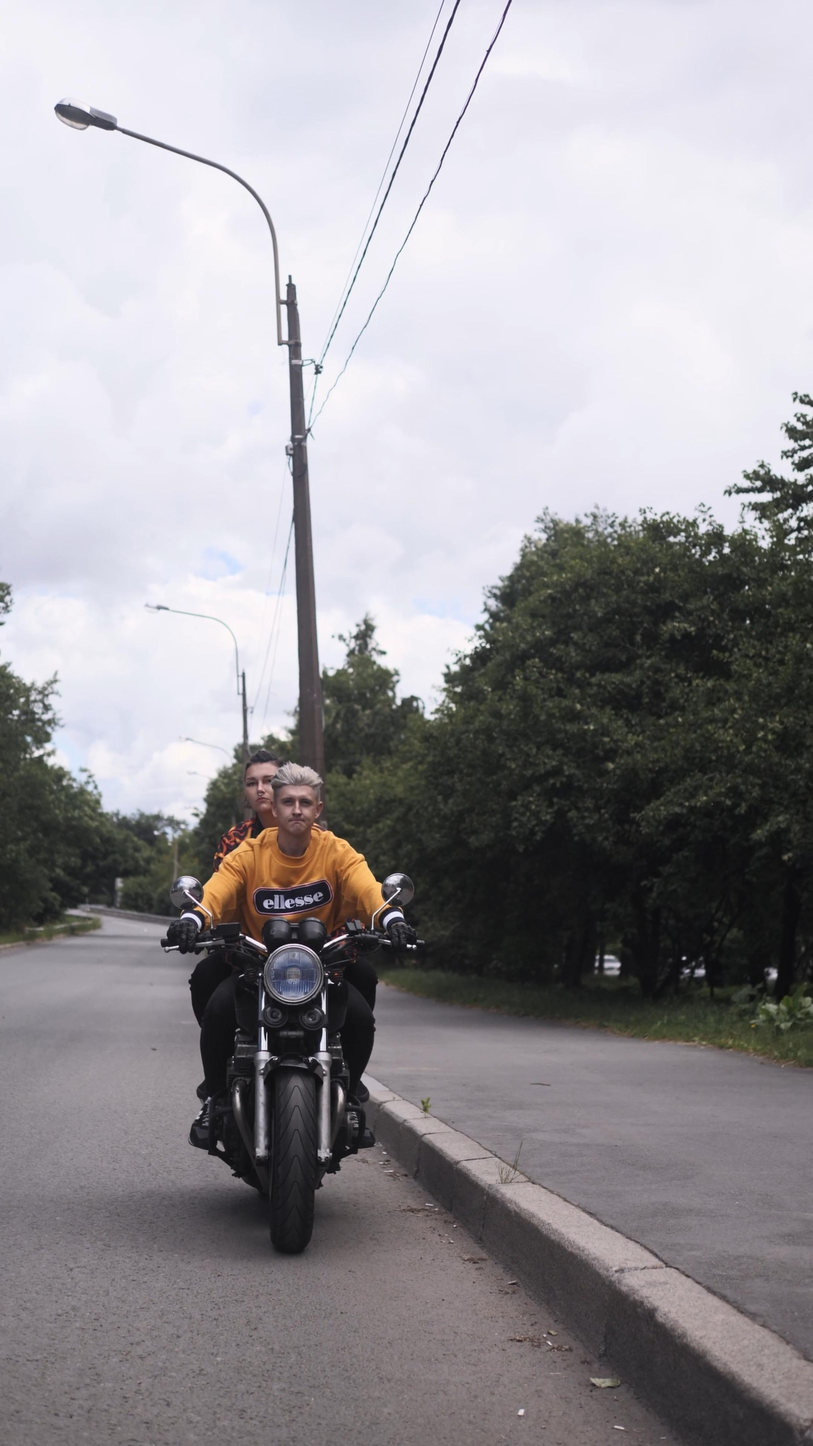driver: (159, 749, 426, 1255)
no-helmet: (270, 760, 324, 834), (244, 749, 281, 811)
